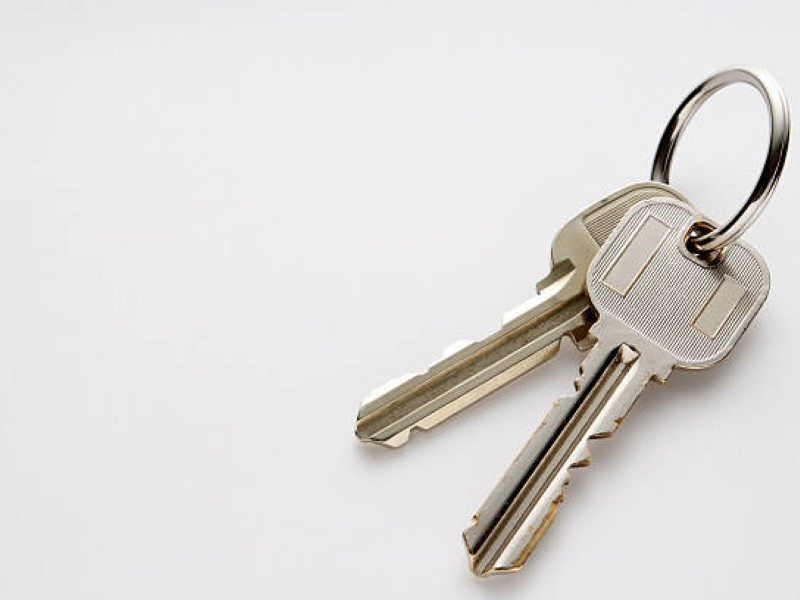key: (352, 173, 779, 584)
